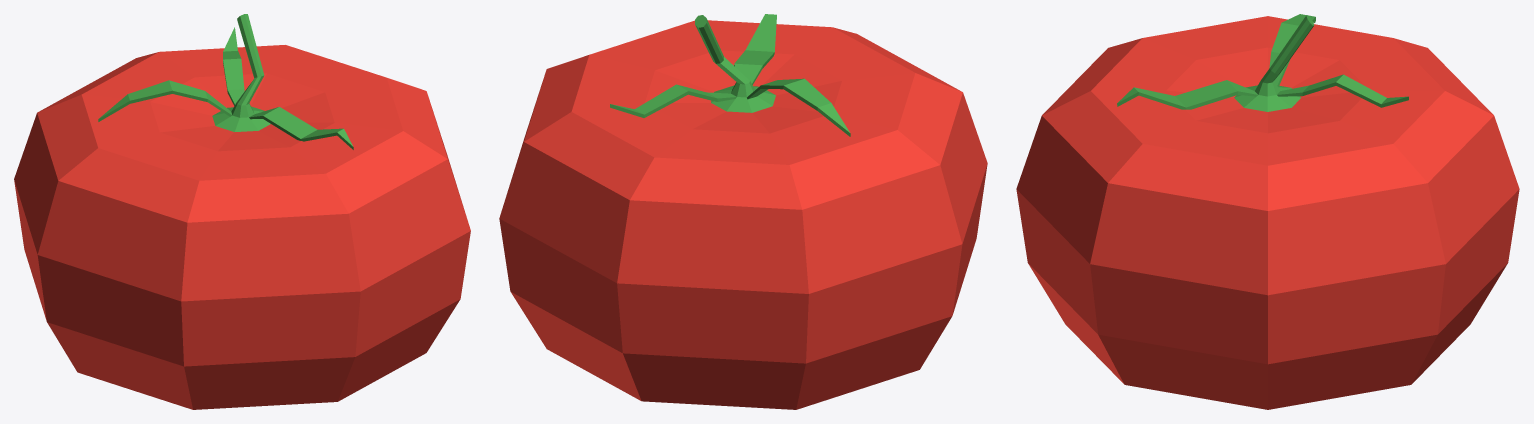
File: Tomato_01.obj
3 renders of one model, left to right at view 1: azimuth 30°, elevation 25°; view 2: azimuth 150°, elevation 25°; view 3: azimuth 270°, elevation 25°, orthographic. The views are drawn at different scales.
Parts seen in each view (by area): view 1: Sphere; view 2: Sphere; view 3: Sphere.
Part boxes in pixels (x1,y1,x2,y2): Sphere: (14,14,470,409); Sphere: (499,14,987,409); Sphere: (1016,14,1519,409).
Bounding box in the file's own units: 12.89 × 9.87 × 12.89.
